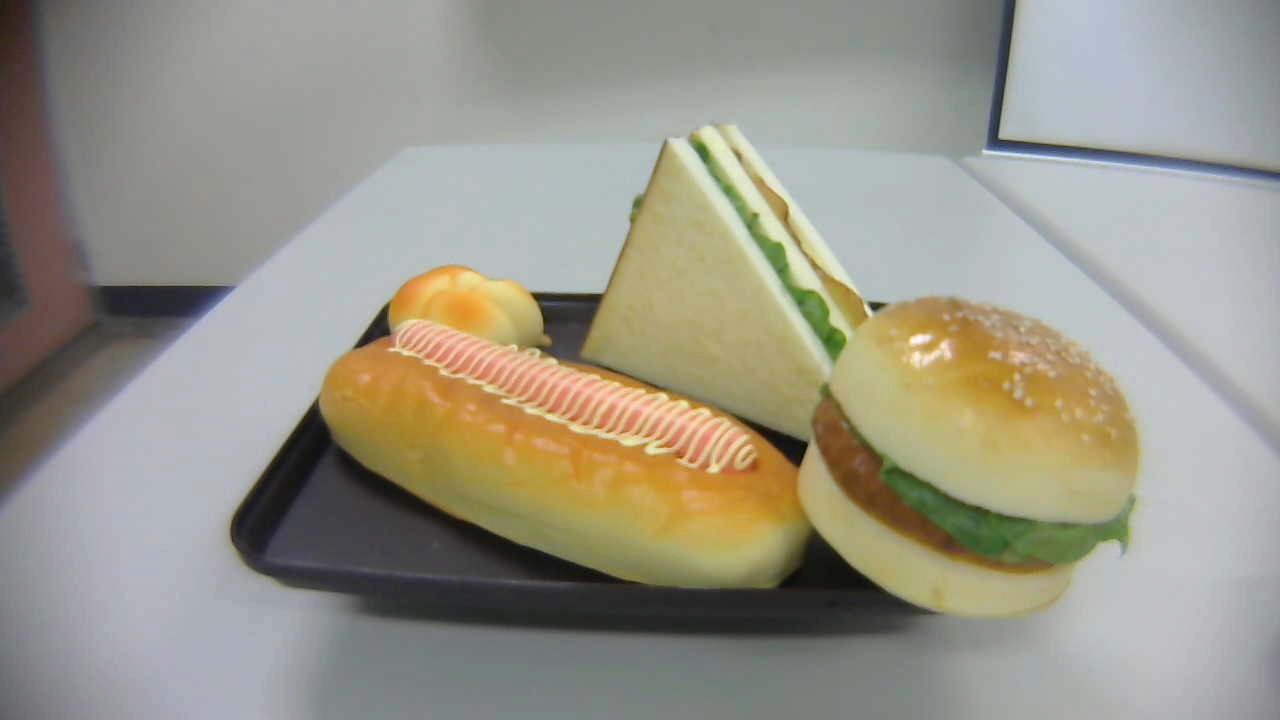hamburger: (799, 293, 1140, 620)
hot dog: (318, 322, 816, 591)
sandwich: (579, 125, 914, 444)
twist bread: (388, 266, 554, 366)
